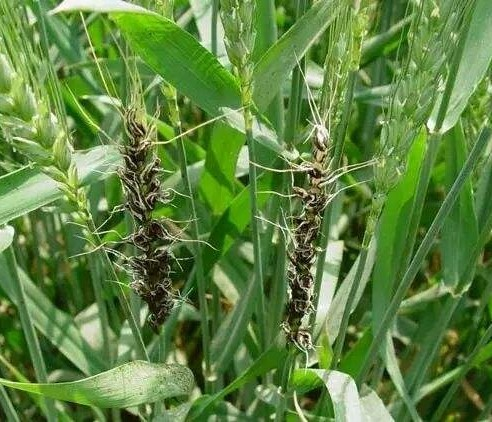Wheat Loose Smut: (106, 112, 181, 315), (283, 135, 340, 339)
